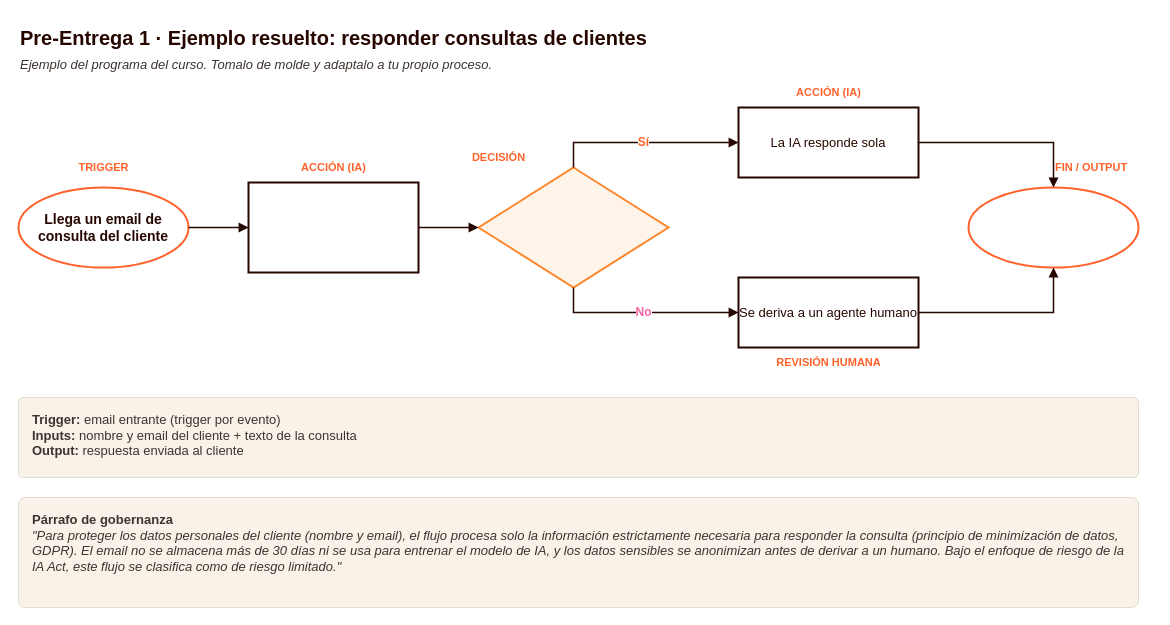
Some shapes in this 1170 by 625 pixel diagram are drawn without their labels. The centre of each missing label's shape, as x and y in pixels:
"La IA lee y clasifica la consulta" goes at point 333,227.
"Respuesta enviada al cliente" goes at point 1053,227.
"¿Es una consulta simple y frecuente?" goes at point 573,227.
